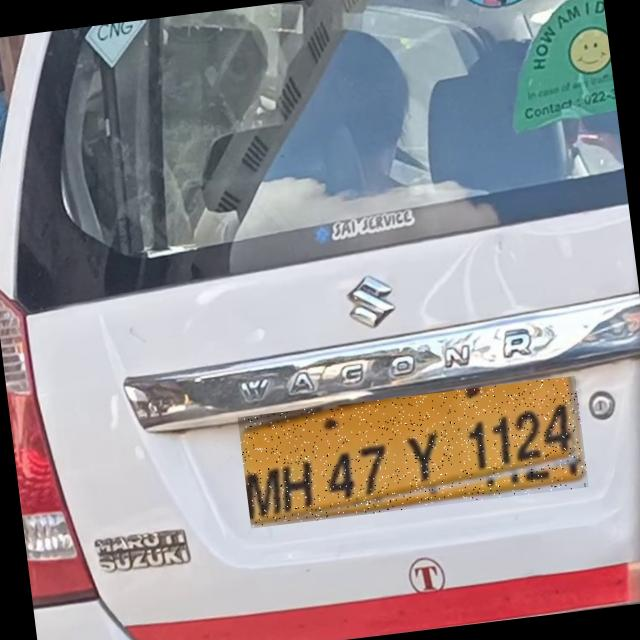Plate: (238, 376, 589, 529)
